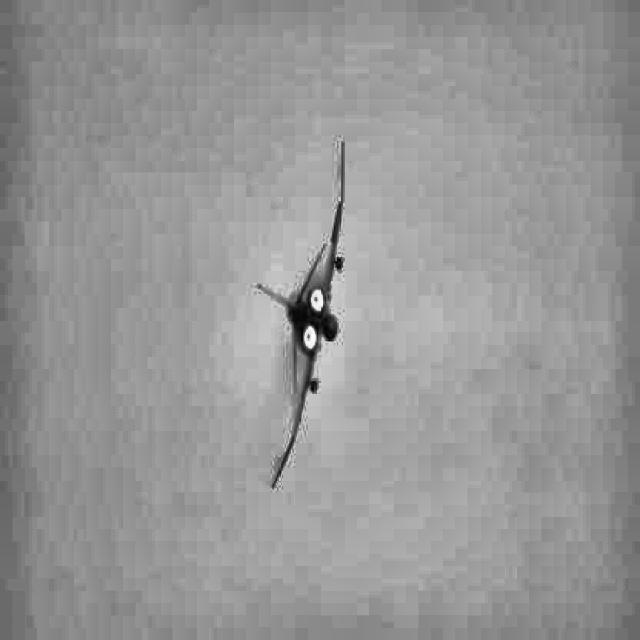F4: (256, 141, 346, 488)
